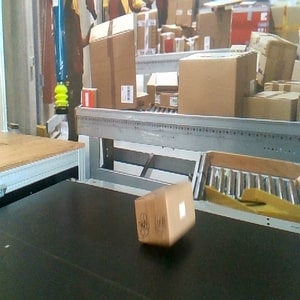box: (134, 181, 196, 247)
